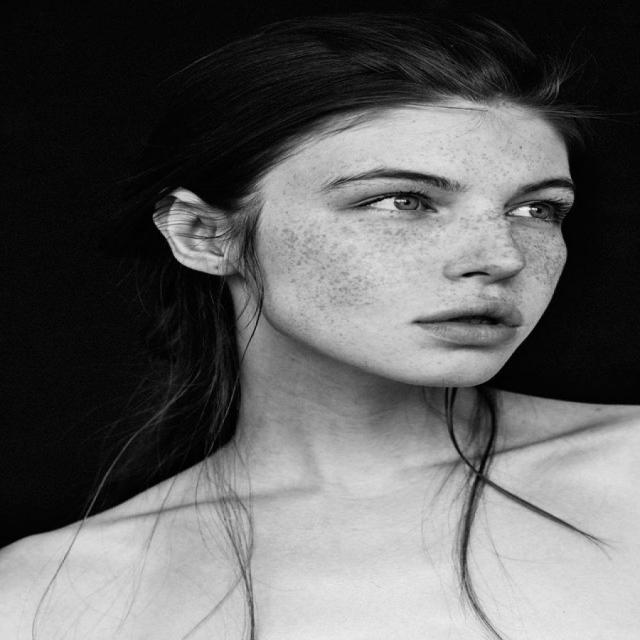earlobe: (194, 250, 238, 278)
eye: (360, 190, 441, 215), (505, 200, 562, 223)
nose: (446, 270, 534, 298)
wholeear: (151, 185, 238, 278)
